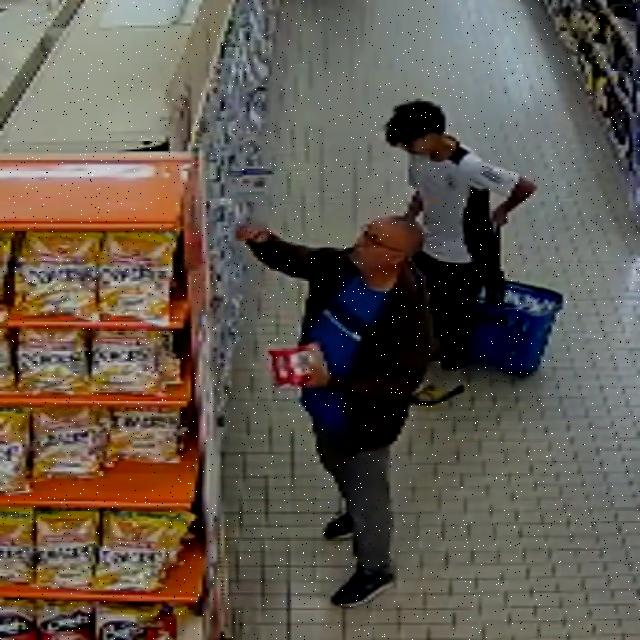article: (271, 340, 328, 387)
hands: (298, 363, 332, 385), (236, 225, 271, 244), (492, 206, 508, 227)
person: (237, 216, 432, 607), (387, 100, 535, 403)
